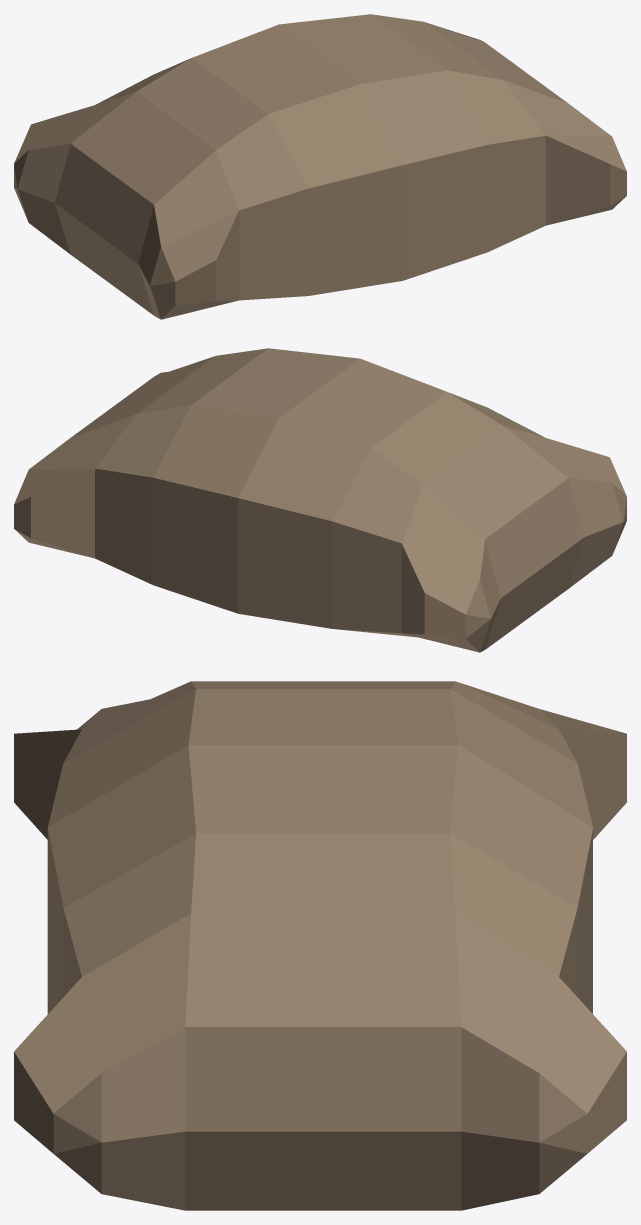
The model's file is SM_Prop_GrainBag_01.glb.
3 renders of one model, top to bottom at view 1: azimuth 30°, elevation 25°; view 2: azimuth 150°, elevation 25°; view 3: azimuth 270°, elevation 25°, orthographic. The views are drawn at different scales.
Visible parts, largest first — view 1: SM_Prop_GrainBag_01; view 2: SM_Prop_GrainBag_01; view 3: SM_Prop_GrainBag_01.
Part boxes in pixels (x1=…): SM_Prop_GrainBag_01: x1=14, y1=14, x2=626, y2=319; SM_Prop_GrainBag_01: x1=14, y1=348, x2=626, y2=652; SM_Prop_GrainBag_01: x1=14, y1=681, x2=626, y2=1210.
Bounding box in the file's own units: 0.845 × 0.3199 × 0.5725.
1 material, 1 textured.
